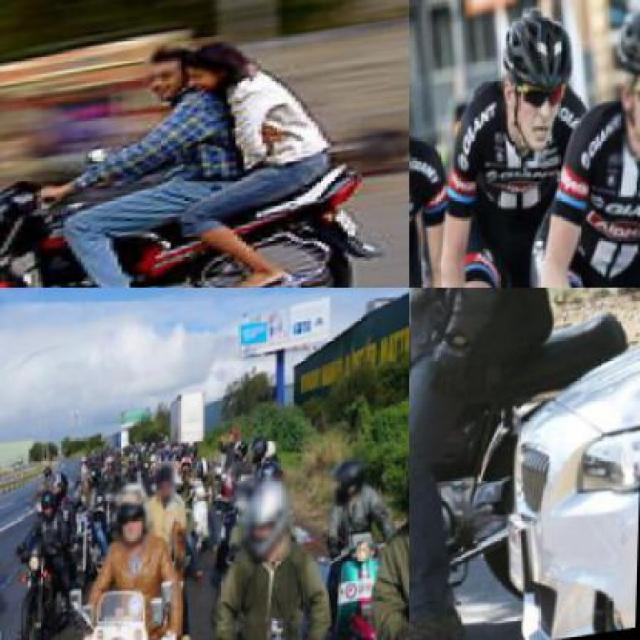With Helmet: (488, 0, 589, 186), (598, 0, 638, 182), (236, 480, 296, 574), (111, 482, 160, 570), (326, 454, 376, 520), (48, 472, 74, 512), (36, 491, 61, 531), (250, 441, 272, 477)
Without Helmet: (181, 41, 259, 96), (142, 46, 195, 94), (154, 467, 180, 516)
